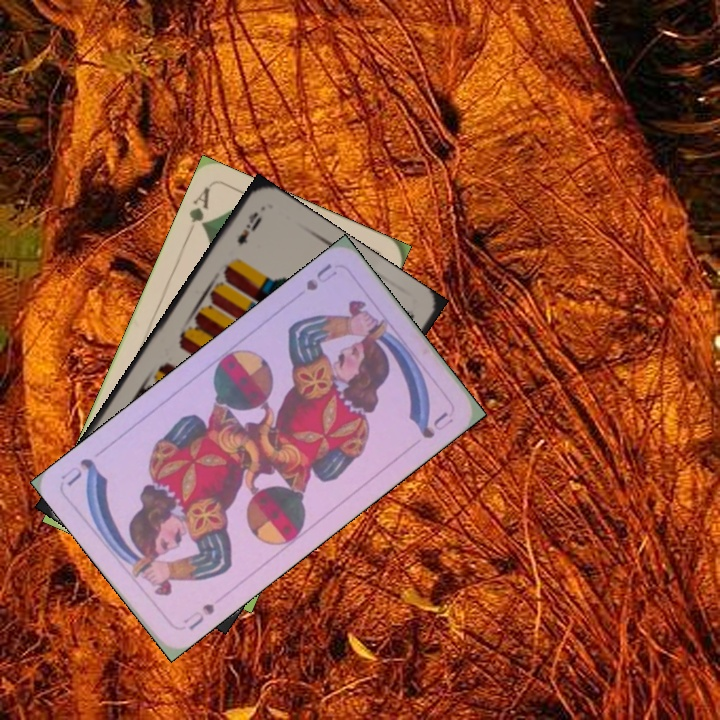E9: (233, 207, 265, 248)
GA: (182, 183, 213, 240)
SU: (302, 259, 340, 294), (179, 599, 218, 633)
